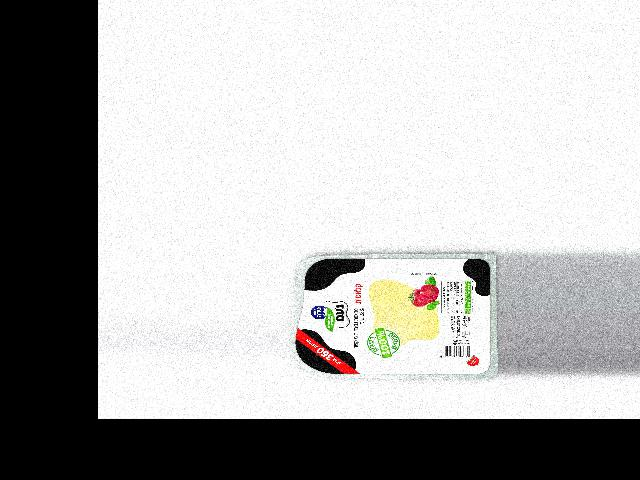cheese: (288, 253, 497, 379)
